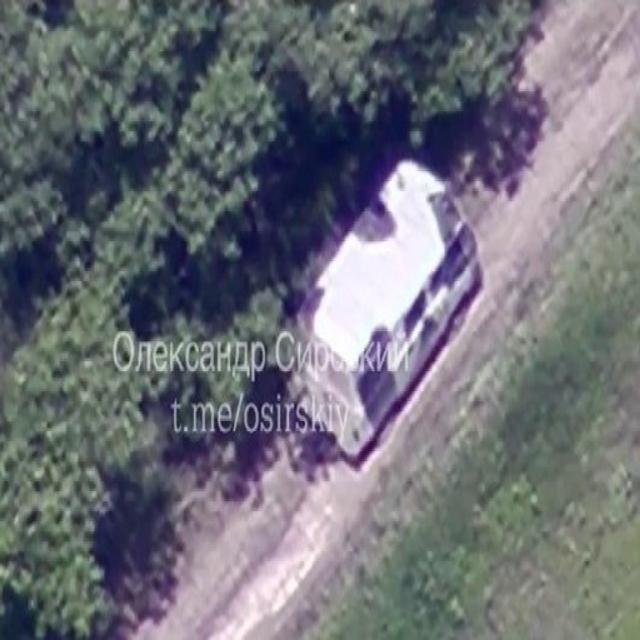CAR: (284, 149, 482, 464)
